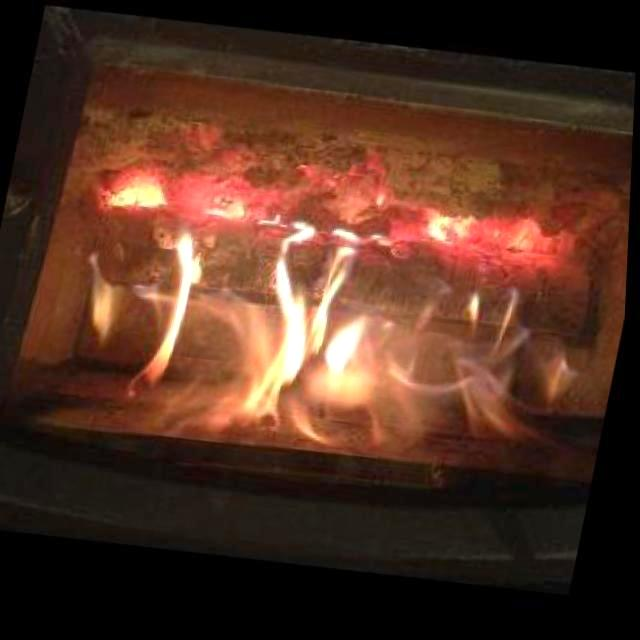fire: (46, 113, 610, 505)
